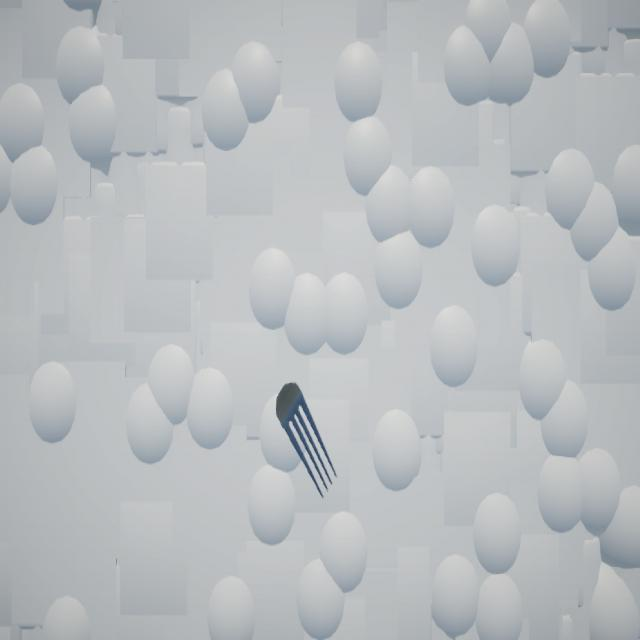top_folk: (277, 383, 338, 499)
